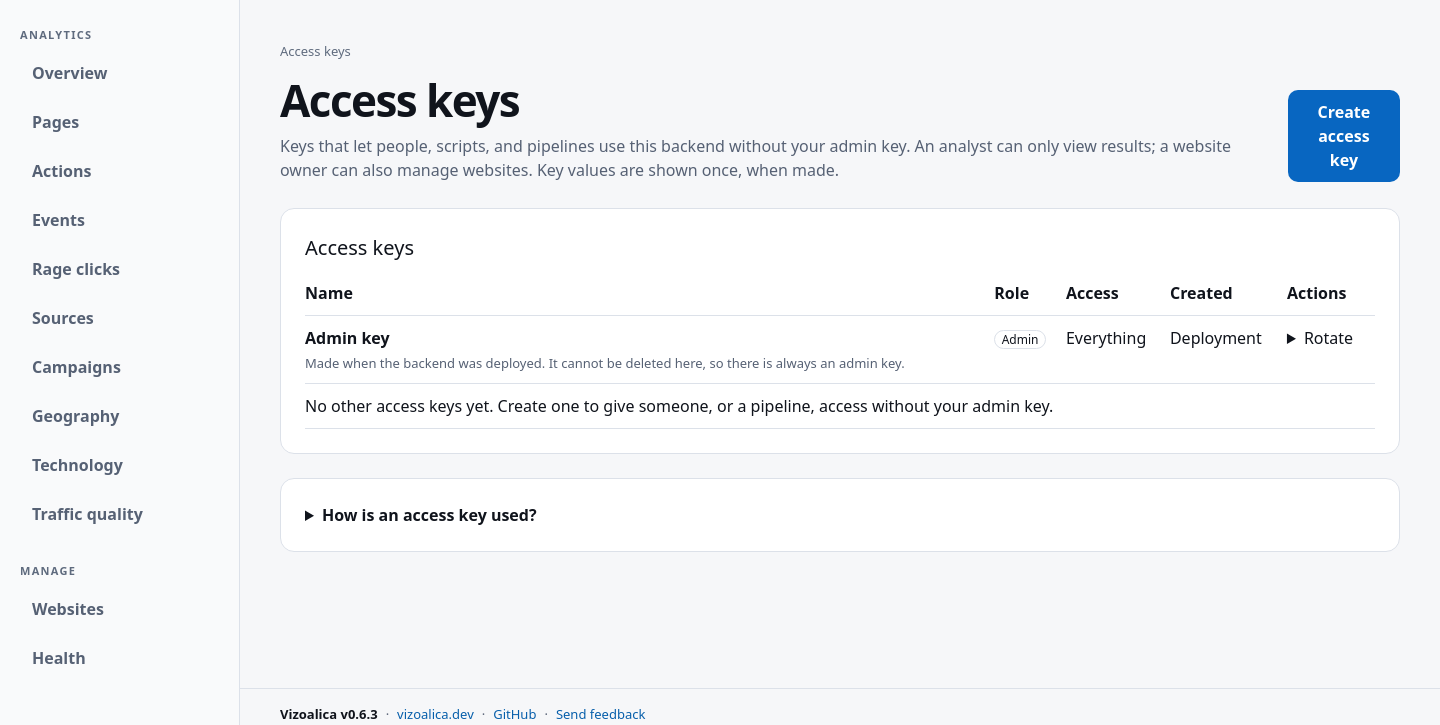
Create an access key › says a project without websites has none, and disables the picker
The width and height of the screenshot is (1440, 725).
Expected: the 1st heading "Access keys" is shown, [280,70,519,130]
Click the button "Create access key" at (1344, 136), box [1288,90,1400,182]
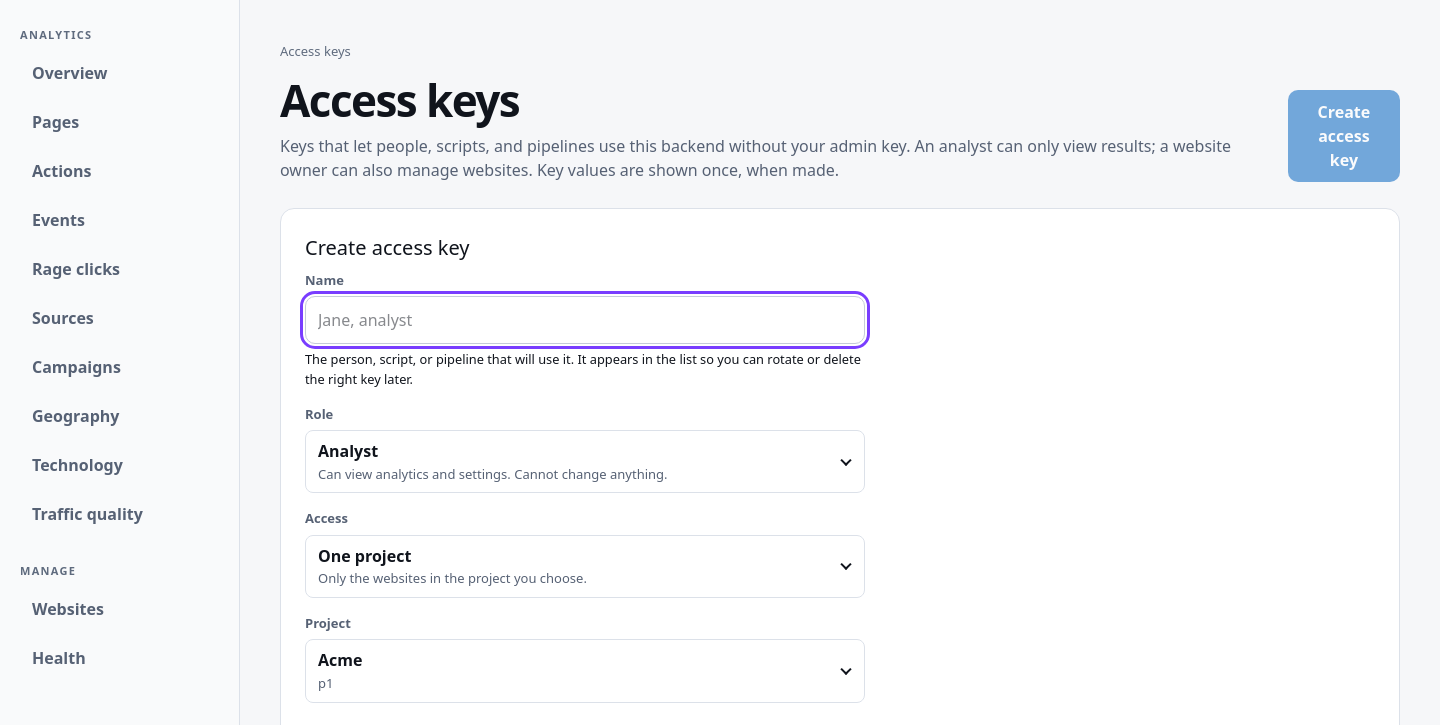
Now the field labelled "Name" is shown, box [305,296,865,344]
Click the button named "Access" at (365, 556), box [305,535,865,598]
(page scrolled)
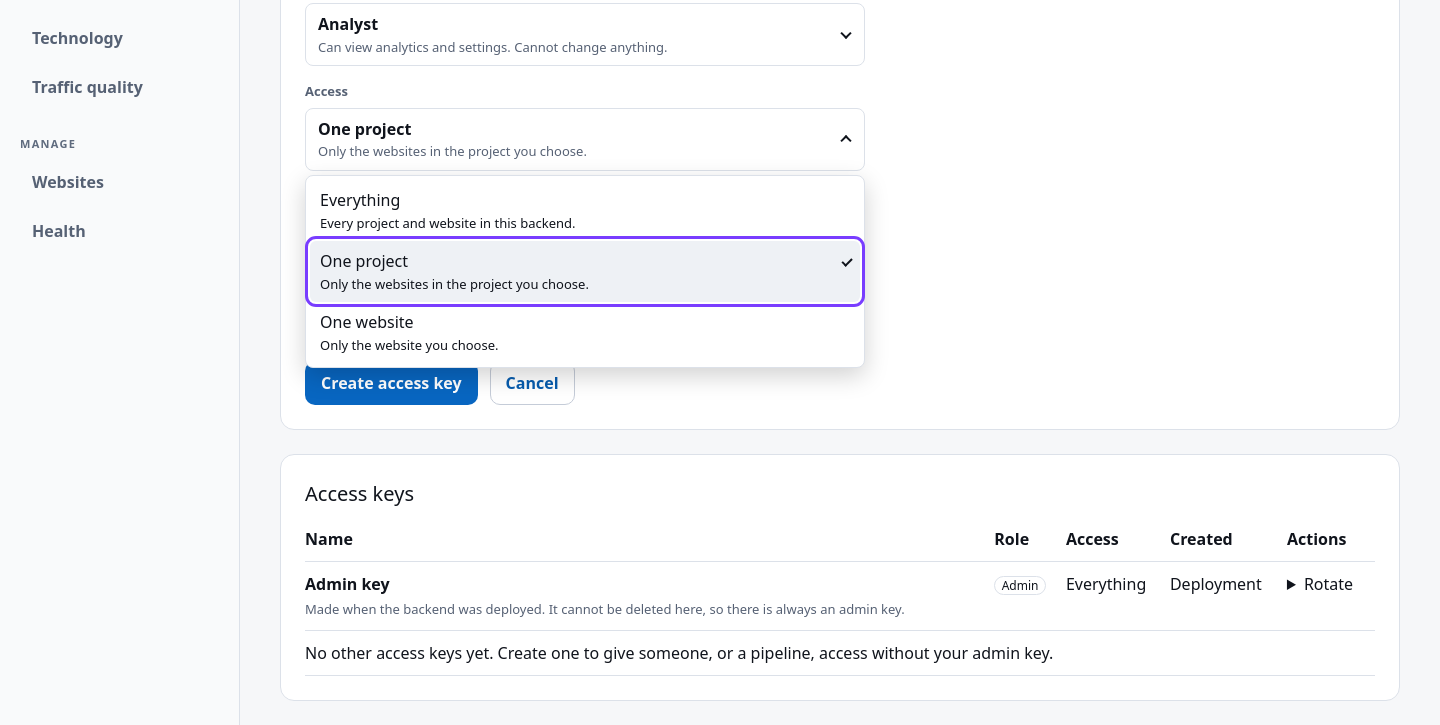
Click the menu item "One website Only the website you choose." at (367, 322), box [310,302,860,363]
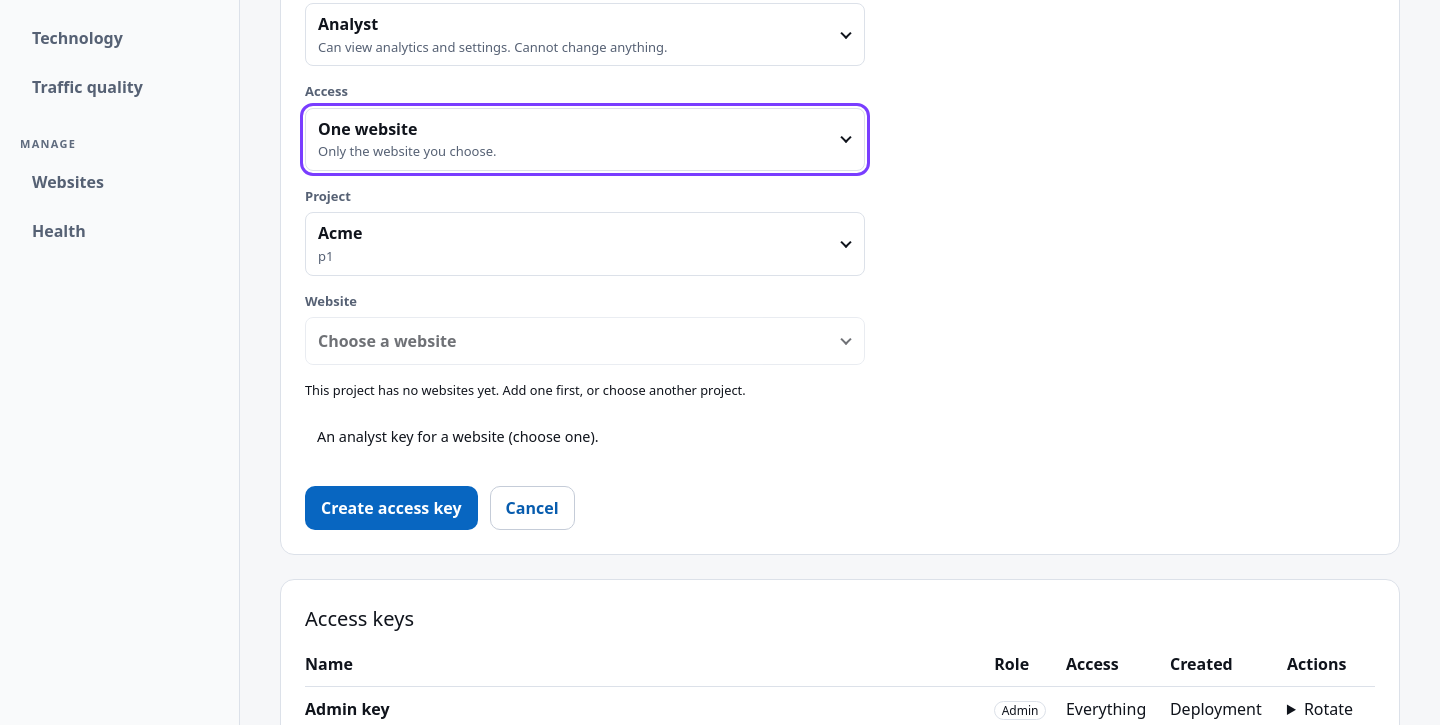
Now the text "This project has no websites yet" is shown, box [305,381,746,399]
Now the button "Choose a website" is disabled, box [305,317,865,365]
